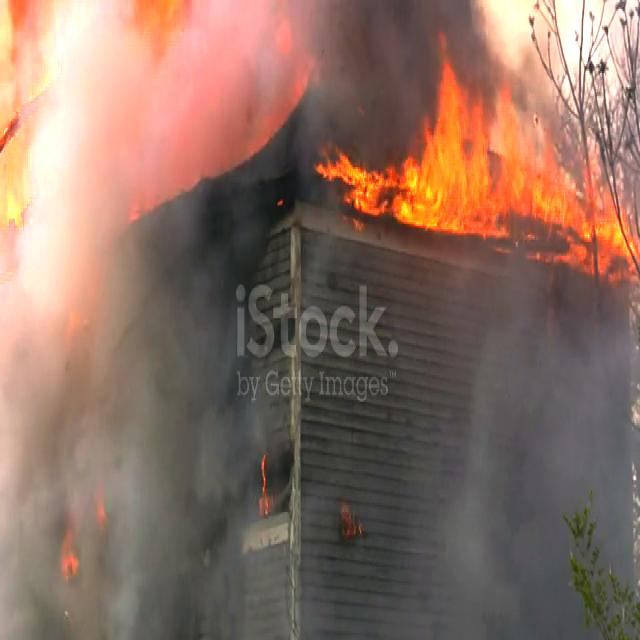fire: (352, 56, 622, 267)
smoke: (150, 0, 334, 531), (0, 0, 147, 201)
